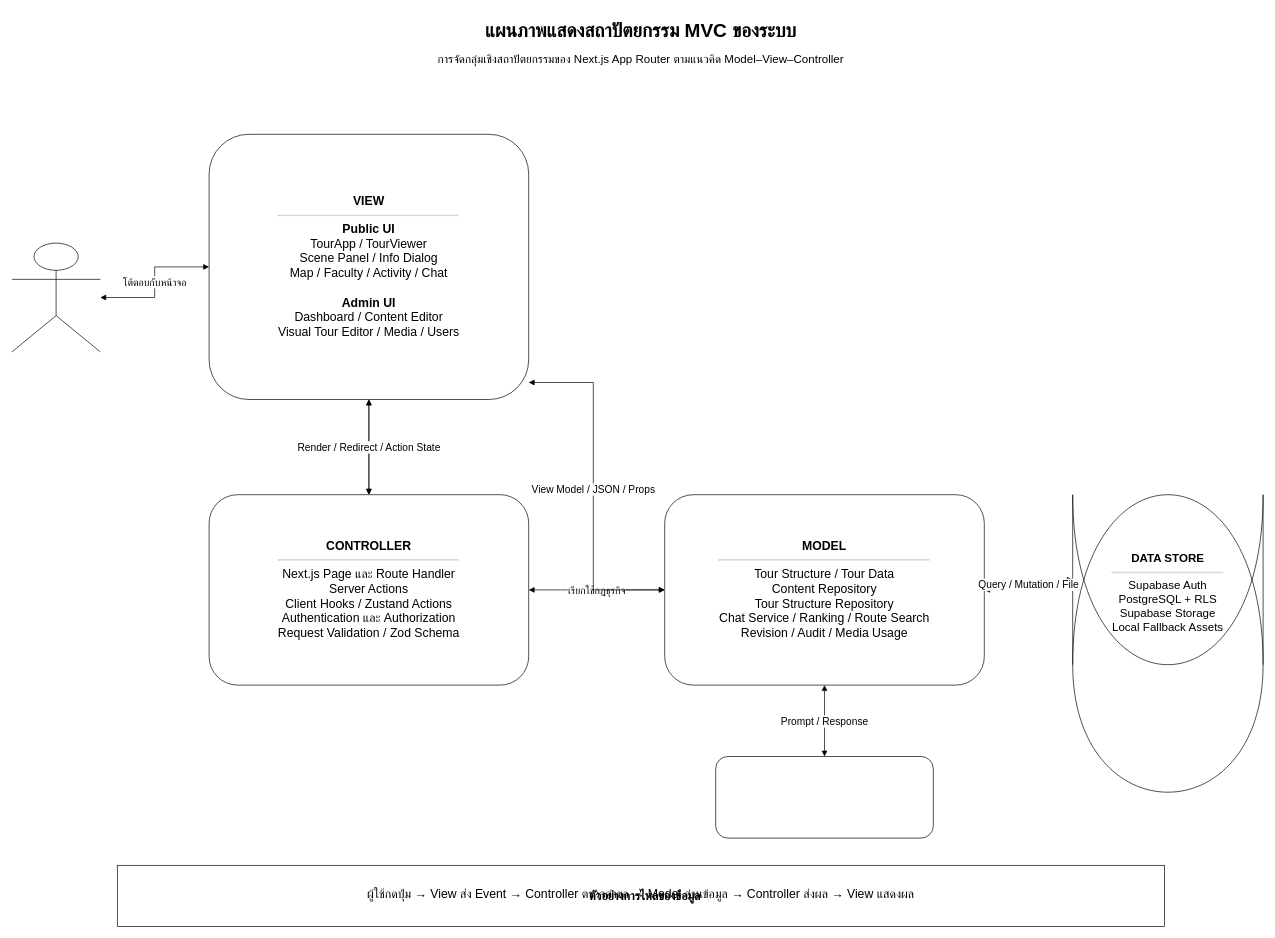
This 1275x938 diagram has some shape labels left out. The centre of each missing label's shape, as x and y in pixels:
EXTERNAL SERVICE Google Gemini API: (824,797)
ผู้ใช้งาน Visitor / Staff: (55,297)
